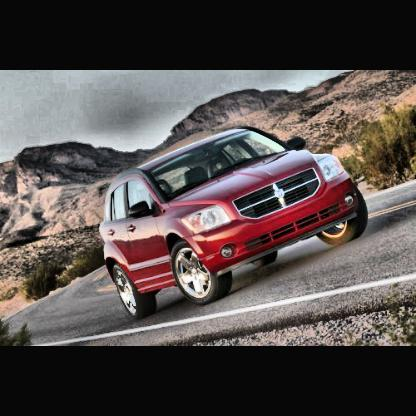Dodge Caliber Wagon 2012: (100, 127, 371, 320)
